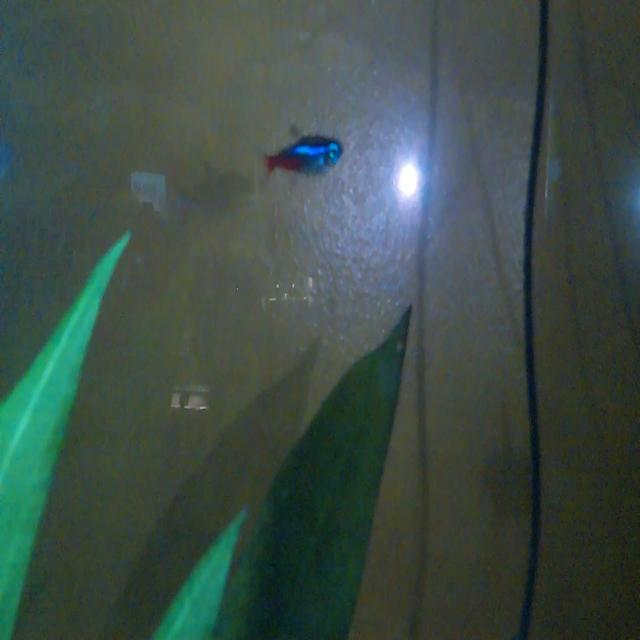fish: (265, 102, 348, 190)
